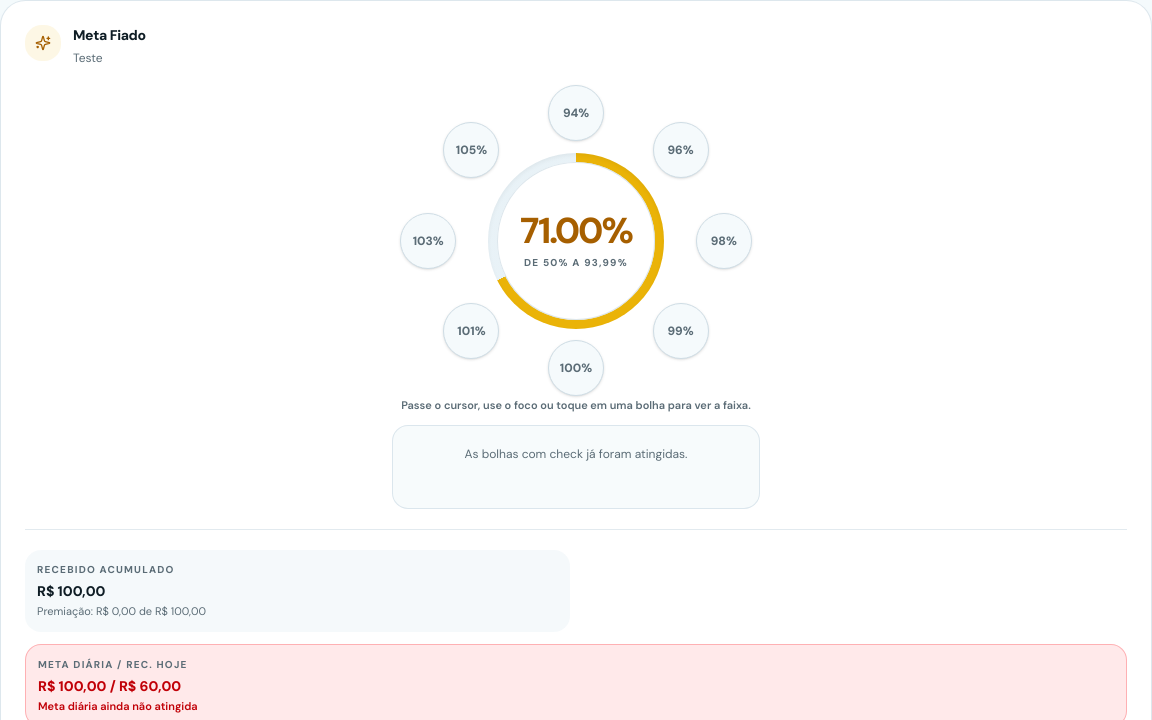
Test: GoalCard › exibe as faixas em bolhas e mostra o valor faltante ao passar o cursor
Hover over the button named "faixa de 94%".
mouse_move(576, 113)  # box left=548, top=85, right=604, bottom=141
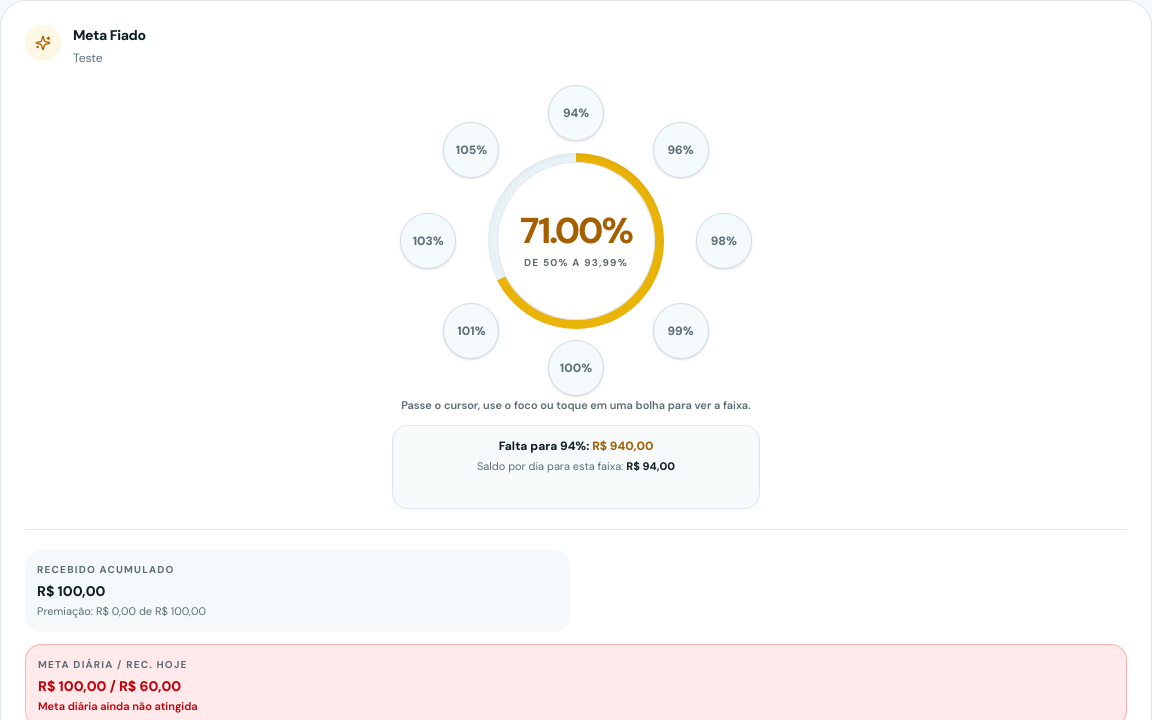
Check: the text "Falta para 94%: R$ 940,00" is shown, box left=499, top=438, right=653, bottom=454
Check: the text "R$ 940,00" is shown, box left=592, top=438, right=653, bottom=454
